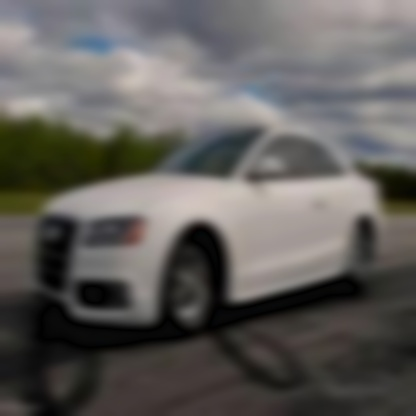Vehicle: (34, 119, 390, 341)
